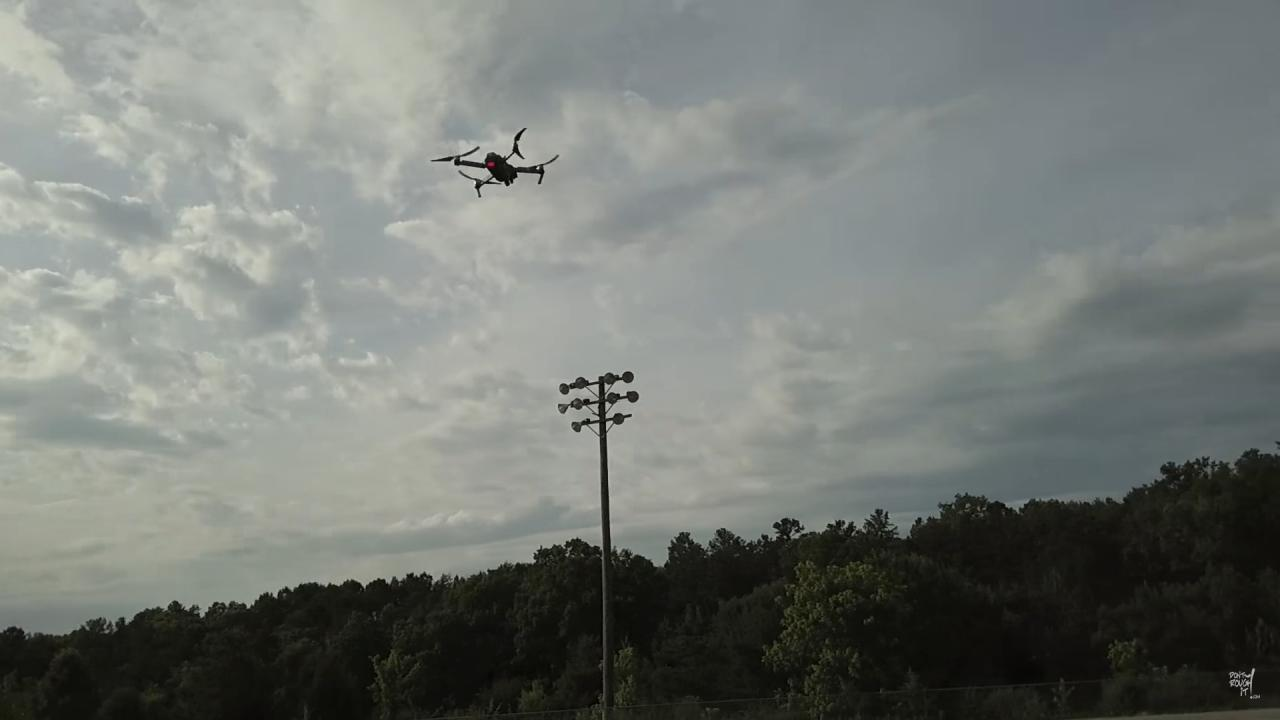Drone: (423, 119, 565, 210)
